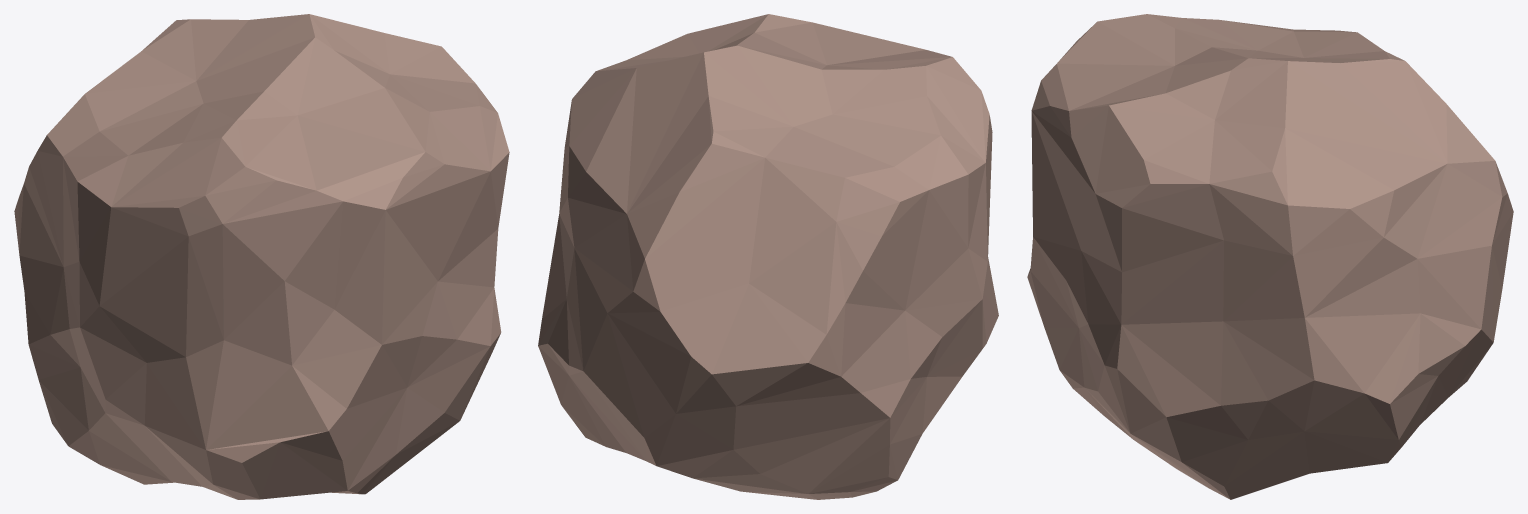
Rendered from Rock1.fbx.
The picture shows the model from 3 angles, left to right: view 1: azimuth 30°, elevation 25°; view 2: azimuth 150°, elevation 25°; view 3: azimuth 270°, elevation 25°; orthographic projection. The views are drawn at different scales.
Parts seen in each view (by area): view 1: Cube; view 2: Cube; view 3: Cube.
Part boxes in pixels (left/top/right/bottom): Cube: left=14, top=14, right=509, bottom=499; Cube: left=538, top=14, right=998, bottom=499; Cube: left=1027, top=14, right=1513, bottom=499.
Size of the model in its own units: 560 by 572 by 605.
